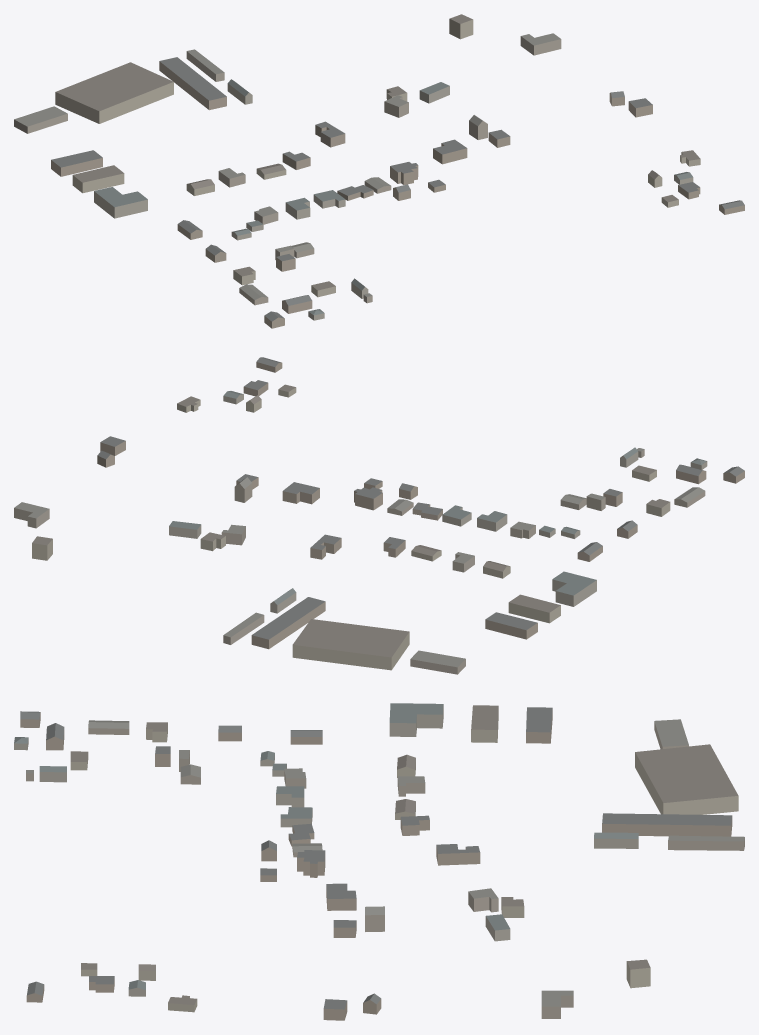
The model's file is cc0097021469-chunk-1200_11846.glb.
The picture shows the model from 3 angles, top to bottom: view 1: azimuth 30°, elevation 25°; view 2: azimuth 150°, elevation 25°; view 3: azimuth 270°, elevation 25°; orthographic projection. The views are drawn at different scales.
Parts seen in each view (by area): view 1: building_143719, building_10011, building_89160, building_170978, building_116322, building_154461, building_93922, building_11761, building_30512, building_46497, building_125773; view 2: building_143719, building_10011, building_89160, building_170978, building_116322, building_154461, building_11761, building_93922, building_30512, building_46497, building_125773; view 3: building_143719, building_10011, building_89160, building_30512, building_170978, building_116322, building_125773, building_154461, building_93922, building_11761, building_17454, building_46497 (+8 smaller).
Part boxes in pixels (left/top/right/bottom): building_143719: left=55, top=62, right=173, bottom=123; building_10011: left=159, top=57, right=226, bottom=110; building_89160: left=94, top=187, right=147, bottom=218; building_170978: left=72, top=165, right=124, bottom=193; building_116322: left=51, top=150, right=102, bottom=176; building_154461: left=14, top=106, right=67, bottom=133; building_93922: left=520, top=33, right=561, bottom=55; building_11761: left=433, top=139, right=467, bottom=164; building_30512: left=186, top=49, right=224, bottom=81; building_46497: left=390, top=162, right=418, bottom=184; building_125773: left=315, top=121, right=345, bottom=147; building_143719: left=292, top=619, right=409, bottom=670; building_10011: left=251, top=597, right=325, bottom=649; building_89160: left=552, top=571, right=596, bottom=606; building_170978: left=508, top=594, right=560, bottom=623; building_116322: left=485, top=612, right=537, bottom=639; building_154461: left=410, top=650, right=465, bottom=674; building_11761: left=282, top=482, right=319, bottom=504; building_93922: left=14, top=502, right=49, bottom=528; building_30512: left=223, top=612, right=264, bottom=644; building_46497: left=354, top=487, right=382, bottom=510; building_125773: left=310, top=534, right=341, bottom=559; building_143719: left=635, top=744, right=738, bottom=814; building_10011: left=602, top=813, right=732, bottom=836; building_89160: left=389, top=703, right=443, bottom=736; building_30512: left=668, top=835, right=744, bottom=850; building_170978: left=471, top=705, right=498, bottom=742; building_116322: left=526, top=707, right=552, bottom=743; building_125773: left=436, top=844, right=480, bottom=865; building_154461: left=654, top=719, right=688, bottom=749; building_93922: left=541, top=990, right=573, bottom=1018; building_11761: left=326, top=883, right=356, bottom=910; building_17454: left=594, top=832, right=638, bottom=848; building_46497: left=297, top=850, right=325, bottom=877.
Bounding box in the file's own units: 353 × 12.16 × 359.
